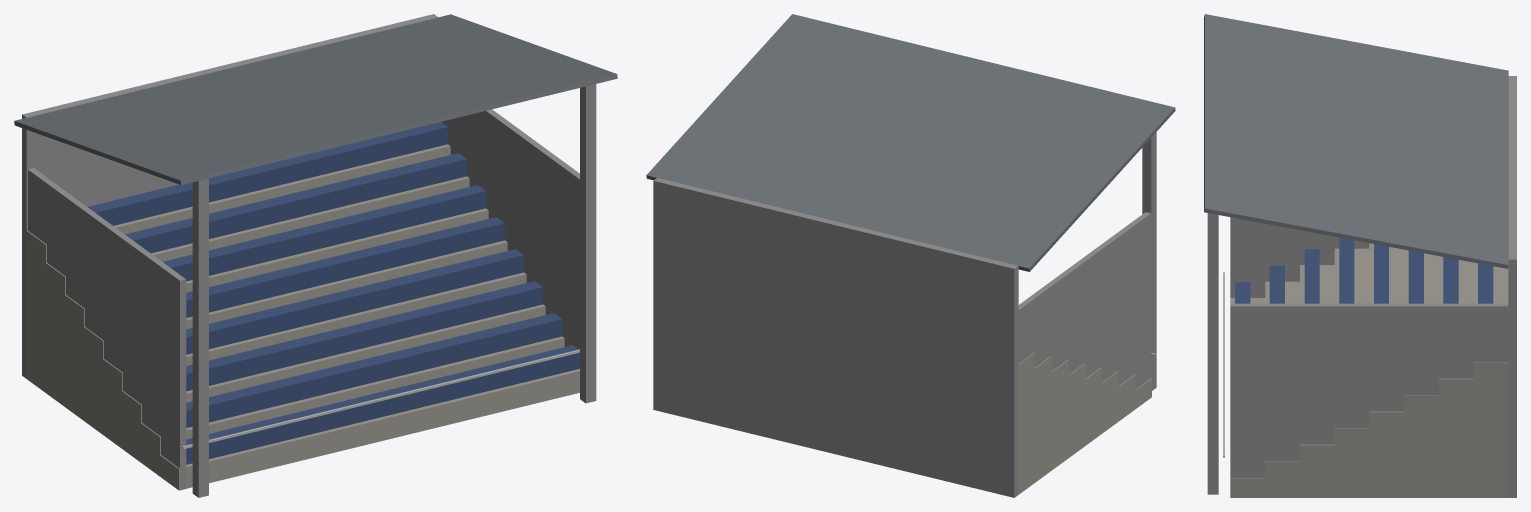
The model's file is sport.circuit.grandstand.glb.
The picture shows the model from 3 angles, left to right: view 1: azimuth 30°, elevation 25°; view 2: azimuth 150°, elevation 25°; view 3: azimuth 270°, elevation 25°; orthographic projection. The views are drawn at different scales.
Parts seen in each view (by area): view 1: main__paint_457, main__paint_999, main__concrete_999, main__paint_777, main__galv_bbb; view 2: main__paint_999, main__paint_777, main__concrete_999; view 3: main__paint_777, main__paint_999, main__concrete_999, main__paint_457, main__galv_bbb.
Part boxes in pixels (left/top/right/bottom): main__paint_457: left=88, top=122, right=579, bottom=464; main__paint_999: left=22, top=14, right=596, bottom=497; main__concrete_999: left=26, top=144, right=579, bottom=490; main__paint_777: left=14, top=14, right=617, bottom=184; main__galv_bbb: left=182, top=349, right=579, bottom=449; main__paint_999: left=653, top=132, right=1156, bottom=497; main__paint_777: left=646, top=14, right=1175, bottom=271; main__concrete_999: left=1018, top=352, right=1151, bottom=494; main__paint_777: left=1204, top=14, right=1508, bottom=268; main__paint_999: left=1207, top=76, right=1516, bottom=497; main__concrete_999: left=1230, top=243, right=1508, bottom=497; main__paint_457: left=1235, top=237, right=1493, bottom=303; main__galv_bbb: left=1223, top=272, right=1224, bottom=457.
Bounding box in the file's own units: 10.6 × 7.5 × 7.21.
